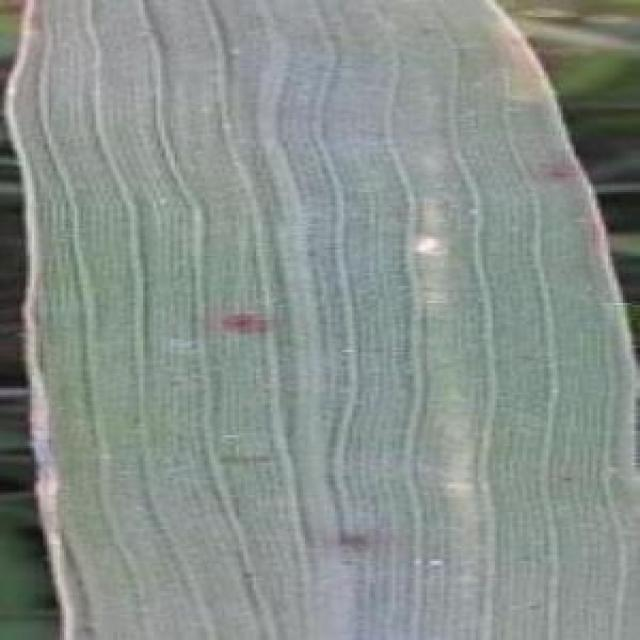Brown_Spot: (212, 308, 274, 337)
